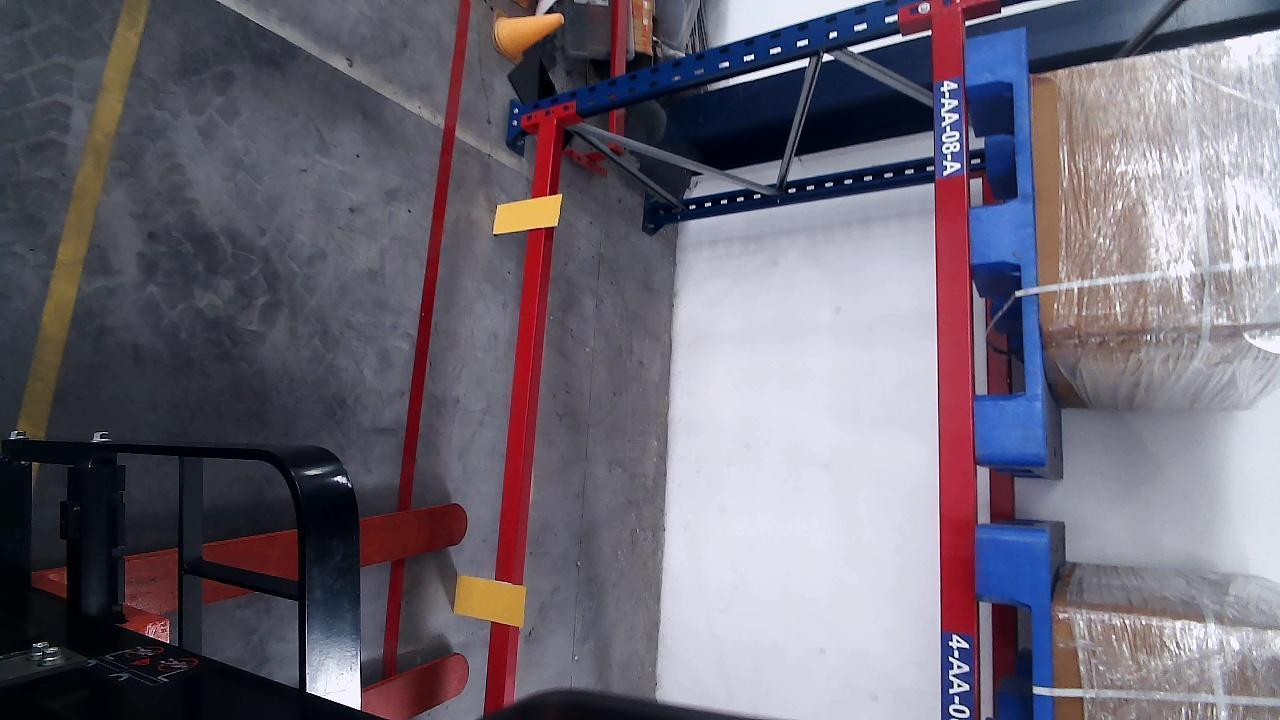red_line: (379, 2, 473, 679)
